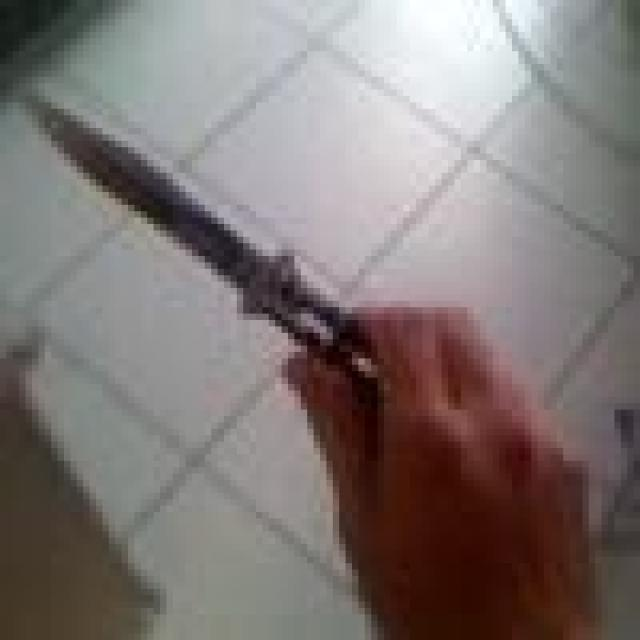senjata_tajam: (15, 88, 384, 406)
